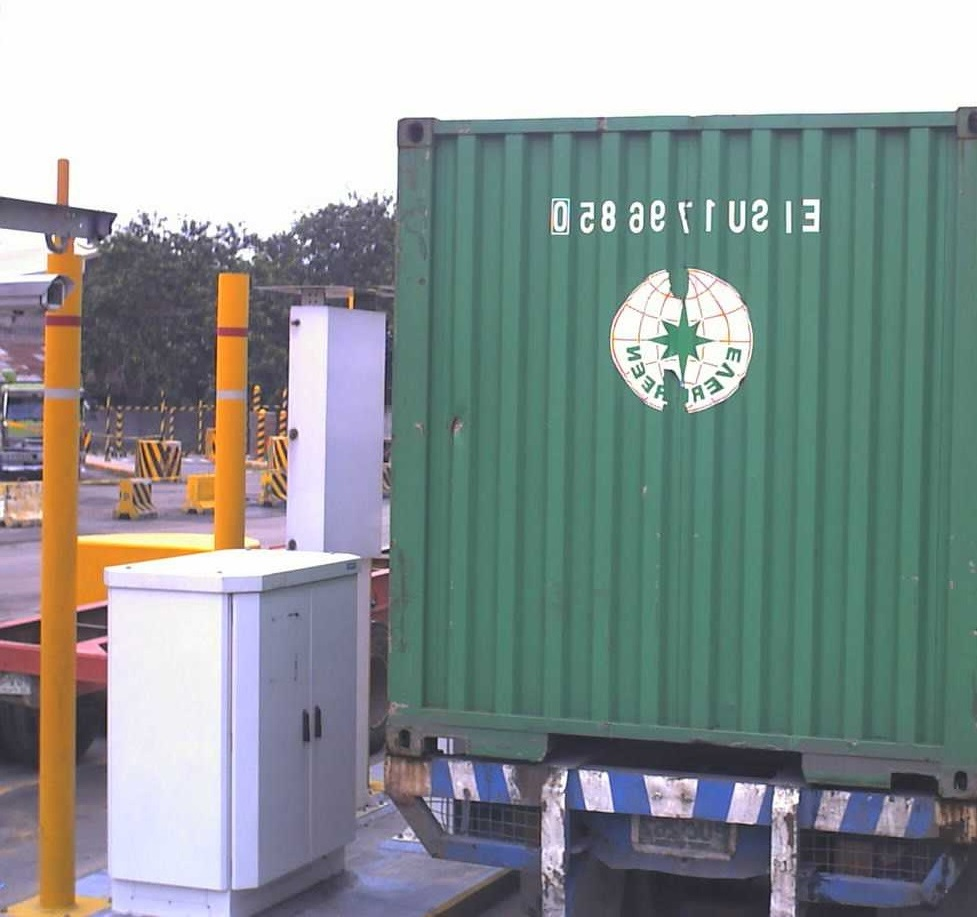container_no_door: (382, 107, 974, 751)
